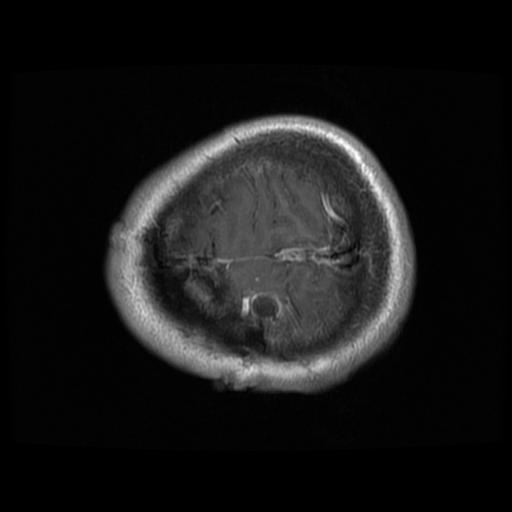glioma: (165, 260, 288, 350)
